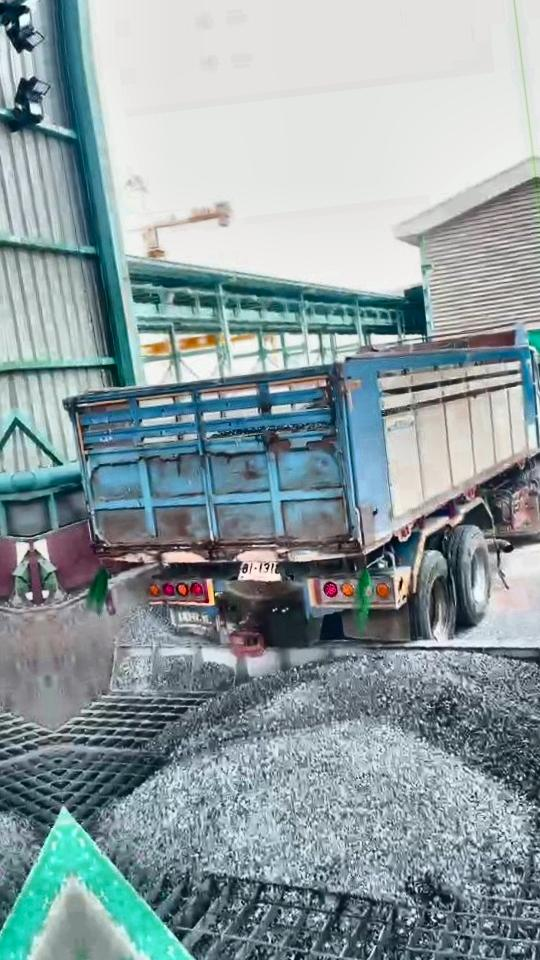gravel: (100, 651, 540, 896), (110, 607, 235, 695)
